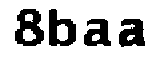8: (9, 4, 45, 50)
a: (83, 17, 116, 48), (118, 19, 147, 49)
b: (46, 7, 81, 51)
